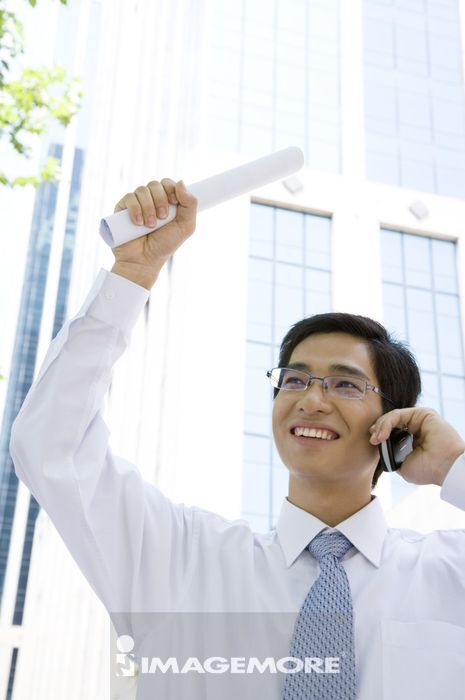talk: (271, 359, 457, 493)
